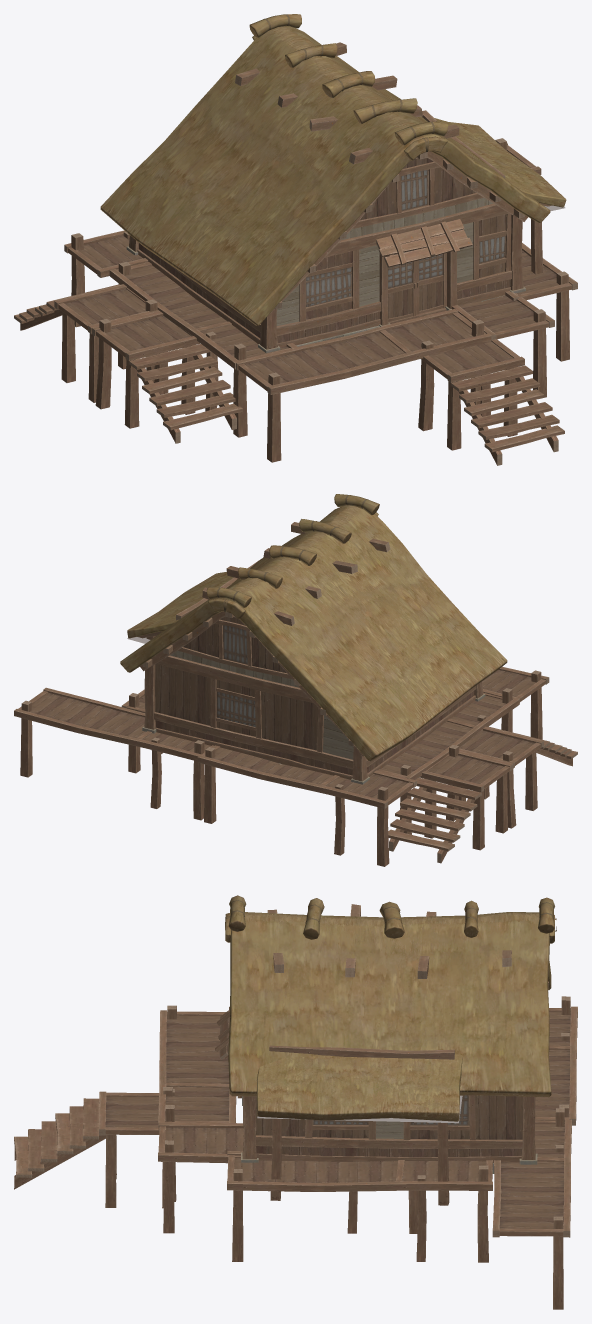
Rendered from Homeworld_Exterior_Dq_Build_House_15_Lod0.fbx.
3 views of the same model, one above another, from view 1: azimuth 30°, elevation 25°; view 2: azimuth 150°, elevation 25°; view 3: azimuth 270°, elevation 25° (orthographic). The views are drawn at different scales.
Visible parts, largest first — view 1: Area_Dq_Build_Common_Maocaowu_01_A_Lod0, Area_Dq_Build_Common_Maocaowu_01_Lod0, Area_Dq_Stairs_Common_McwPlatform_01_Vo (×3), Area_Dq_Build_Common_McwPlatform_01_Vo (×5), Area_Dq_Build_Common_Maocaowu_04_A_Vo, Area_Dq_Build_Common_Maocaowu_04_Lod0; view 2: Area_Dq_Build_Common_Maocaowu_01_A_Lod0, Area_Dq_Build_Common_Maocaowu_01_Lod0, Area_Dq_Build_Common_McwPlatform_01_Vo (×5), Area_Dq_Stairs_Common_McwPlatform_01_Vo (×2), Area_Dq_Build_Common_Maocaowu_04_A_Vo; view 3: Area_Dq_Build_Common_Maocaowu_01_A_Lod0, Area_Dq_Build_Common_McwPlatform_01_Vo (×5), Area_Dq_Build_Common_Maocaowu_01_Lod0, Area_Dq_Build_Common_Maocaowu_04_A_Vo, Area_Dq_Stairs_Common_McwPlatform_01_Vo, Area_Dq_Build_Common_Maocaowu_04_Lod0.
Part boxes in pixels (left/top/right/bottom): Area_Dq_Build_Common_Maocaowu_01_A_Lod0: left=100, top=14, right=550, bottom=325; Area_Dq_Build_Common_Maocaowu_01_Lod0: left=126, top=14, right=527, bottom=353; Area_Dq_Stairs_Common_McwPlatform_01_Vo (×3): left=14, top=284, right=564, bottom=465; Area_Dq_Build_Common_McwPlatform_01_Vo (×5): left=64, top=230, right=577, bottom=462; Area_Dq_Build_Common_Maocaowu_04_A_Vo: left=434, top=118, right=566, bottom=207; Area_Dq_Build_Common_Maocaowu_04_Lod0: left=422, top=110, right=551, bottom=274; Area_Dq_Build_Common_Maocaowu_01_A_Lod0: left=120, top=494, right=507, bottom=761; Area_Dq_Build_Common_Maocaowu_01_Lod0: left=140, top=495, right=485, bottom=784; Area_Dq_Build_Common_McwPlatform_01_Vo (×5): left=14, top=666, right=549, bottom=866; Area_Dq_Stairs_Common_McwPlatform_01_Vo (×2): left=388, top=726, right=577, bottom=863; Area_Dq_Build_Common_Maocaowu_04_A_Vo: left=127, top=572, right=233, bottom=638; Area_Dq_Build_Common_Maocaowu_01_A_Lod0: left=225, top=895, right=554, bottom=1097; Area_Dq_Build_Common_McwPlatform_01_Vo (×5): left=158, top=996, right=577, bottom=1309; Area_Dq_Build_Common_Maocaowu_01_Lod0: left=215, top=900, right=556, bottom=1173; Area_Dq_Build_Common_Maocaowu_04_A_Vo: left=257, top=1054, right=462, bottom=1121; Area_Dq_Stairs_Common_McwPlatform_01_Vo: left=14, top=1087, right=172, bottom=1208; Area_Dq_Build_Common_Maocaowu_04_Lod0: left=269, top=1045, right=454, bottom=1205.
Size of the model in its own units: 16.55 by 8.64 by 15.44.
